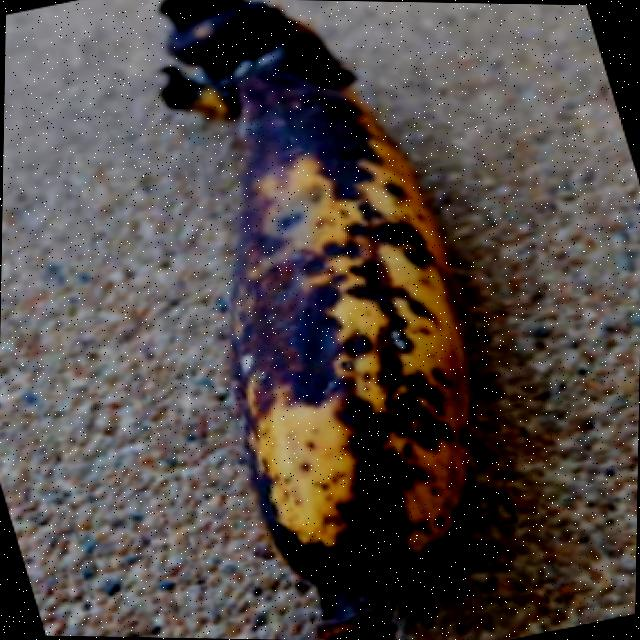Rotten: (75, 0, 506, 640)
